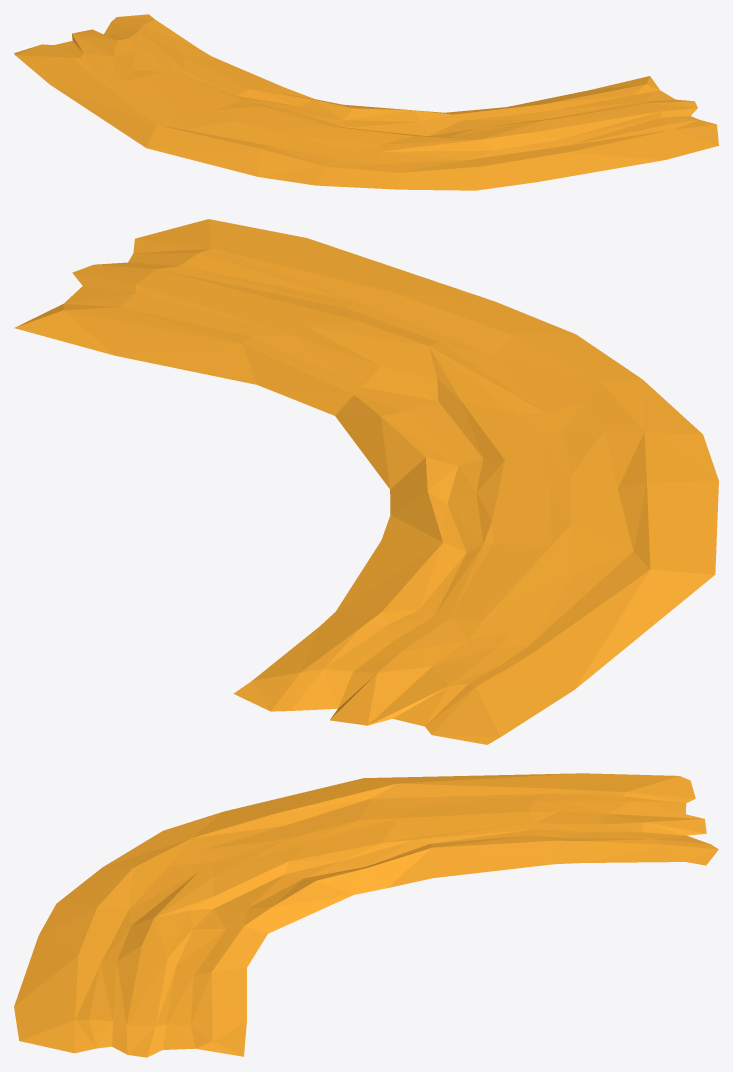
File: SM_Road_Dirt_A_Turn_20x20m.fbx
3 views of the same model, one above another, from view 1: azimuth 30°, elevation 25°; view 2: azimuth 150°, elevation 25°; view 3: azimuth 270°, elevation 25° (orthographic). The views are drawn at different scales.
Visible parts, largest first — view 1: road-dirt-a-turn-20x20m; view 2: road-dirt-a-turn-20x20m; view 3: road-dirt-a-turn-20x20m.
Part boxes in pixels (<box>): road-dirt-a-turn-20x20m: <box>14,14,718,190</box>; road-dirt-a-turn-20x20m: <box>14,219,718,744</box>; road-dirt-a-turn-20x20m: <box>14,773,718,1057</box>.
Size of the model in its own units: 20.46 by 0.5611 by 21.59.
